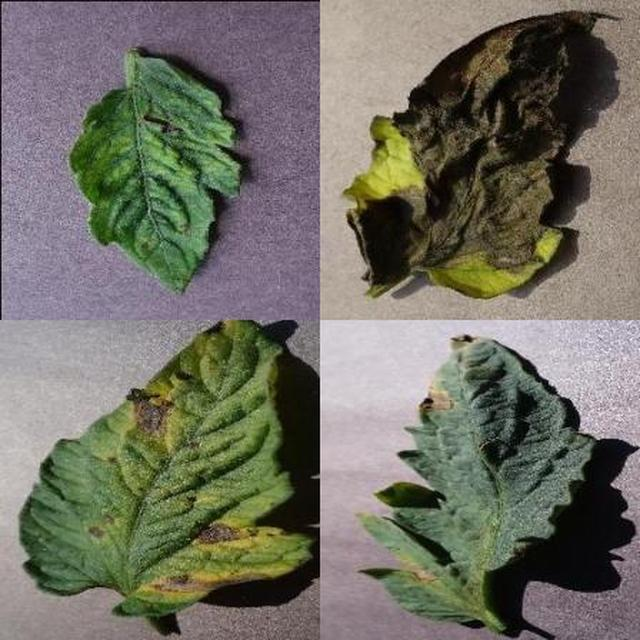Mosaic Virus Leaf: (218, 221, 640, 640)
